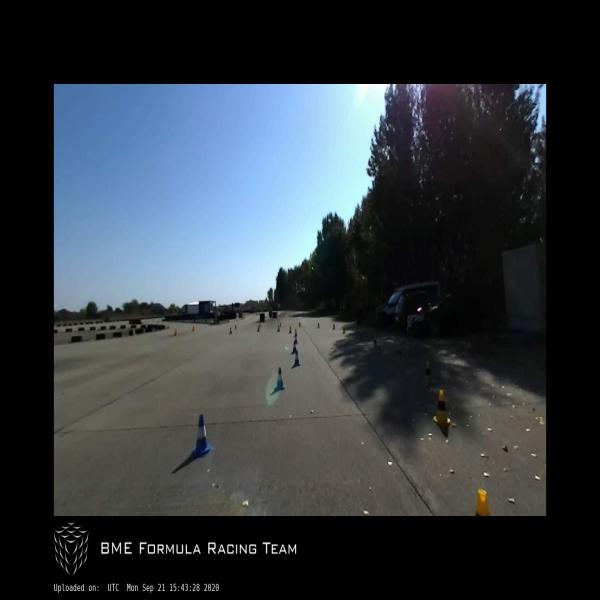blue_cone: (192, 415, 213, 456), (275, 367, 285, 390), (294, 351, 300, 365), (292, 342, 296, 353), (294, 328, 298, 337), (294, 335, 297, 344), (229, 327, 232, 334), (277, 326, 280, 332), (257, 326, 260, 332), (289, 326, 291, 333)
unknown_cone: (174, 329, 177, 335), (192, 325, 195, 331)
yellow_cone: (433, 390, 450, 425), (424, 362, 433, 384), (398, 347, 402, 360), (373, 338, 377, 347), (359, 331, 362, 340), (317, 323, 320, 328), (343, 327, 345, 334), (333, 324, 335, 329), (299, 322, 301, 327), (235, 326, 237, 329), (280, 323, 281, 327)
